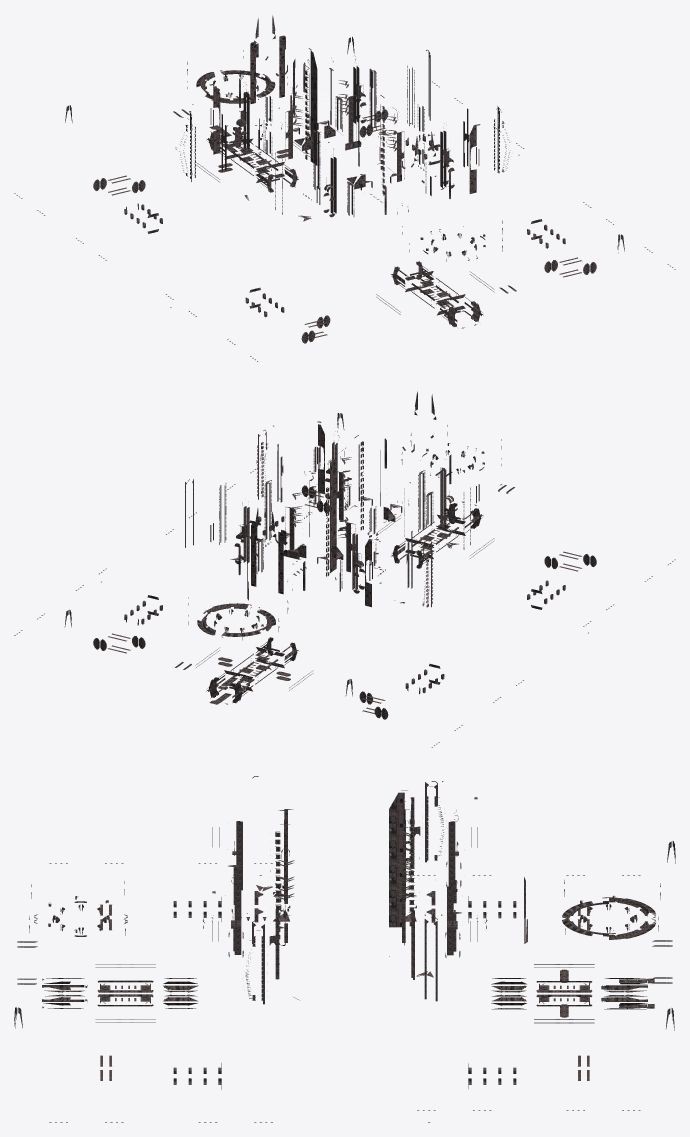
3 renders of one model, top to bottom at view 1: azimuth 30°, elevation 25°; view 2: azimuth 150°, elevation 25°; view 3: azimuth 270°, elevation 25°, orthographic. The views are drawn at different scales.
Visible parts, largest first — view 1: _gltfNode_14.001; view 2: _gltfNode_14.001; view 3: _gltfNode_14.001.
Boxes of the visible parts, left/top/right/bottom form: _gltfNode_14.001: left=14, top=15, right=675, bottom=361; _gltfNode_14.001: left=14, top=391, right=675, bottom=747; _gltfNode_14.001: left=14, top=776, right=675, bottom=1122.
Bounding box in the file's own units: 9.12 × 3.56 × 10.29.
1 material, 1 textured.
